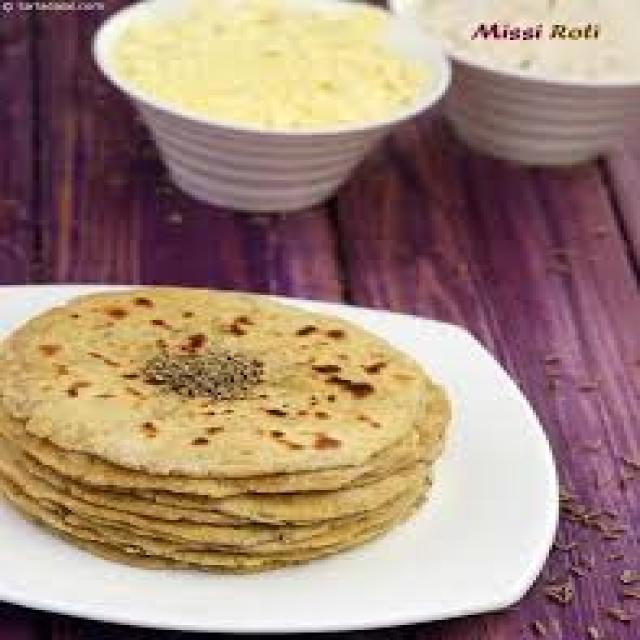ROTI: (0, 288, 442, 482)
